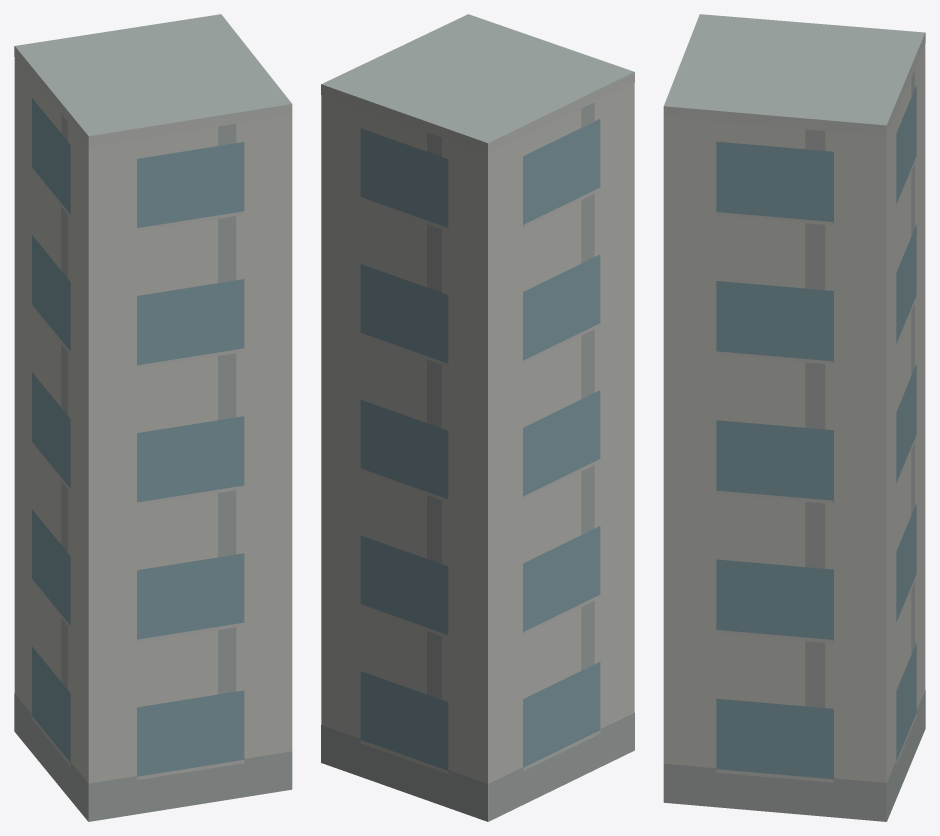
File: survey-upis-32697088.glb
The picture shows the model from 3 angles, left to right: view 1: azimuth 30°, elevation 25°; view 2: azimuth 150°, elevation 25°; view 3: azimuth 270°, elevation 25°; orthographic projection. The views are drawn at different scales.
Visible parts, largest first — view 1: survey-upis-32697088.tmp; view 2: survey-upis-32697088.tmp; view 3: survey-upis-32697088.tmp.
Part boxes in pixels (left/top/right/bottom): survey-upis-32697088.tmp: left=14, top=14, right=292, bottom=821; survey-upis-32697088.tmp: left=321, top=14, right=634, bottom=821; survey-upis-32697088.tmp: left=663, top=14, right=925, bottom=821.
Size of the model in its own units: 5.24 by 15.25 by 5.2.
